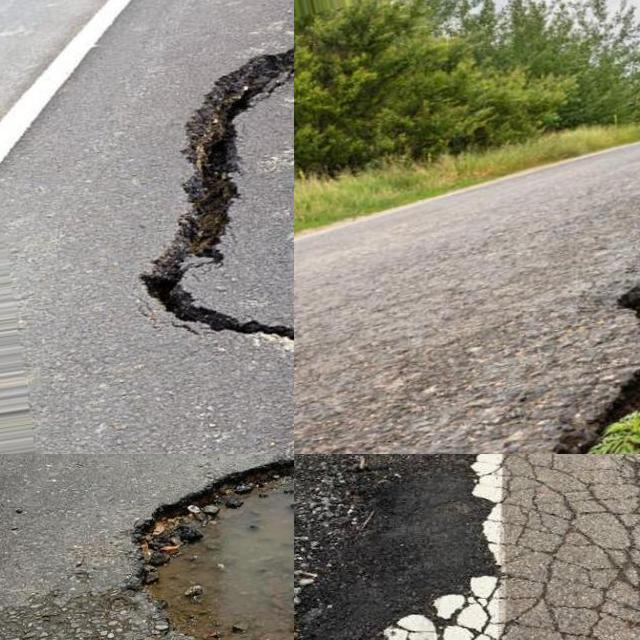Lubang: (133, 460, 294, 640)
Pinggir: (135, 39, 294, 367), (294, 454, 499, 640)
Retak Buaya: (373, 454, 640, 640)
